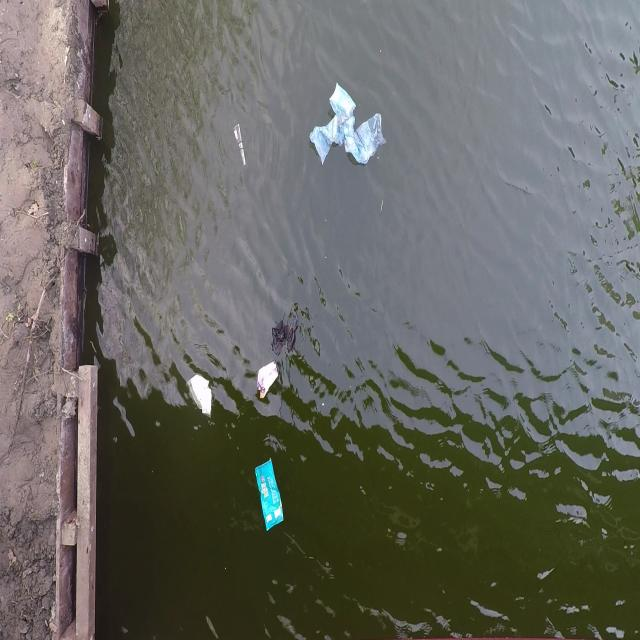Autre plastique: (250, 456, 289, 542)
Sac plastique: (304, 79, 393, 171), (264, 307, 302, 358)
